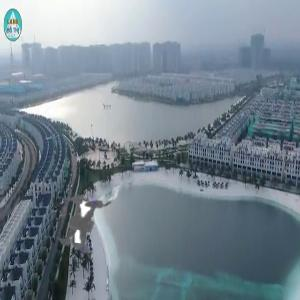drone: (10, 157, 151, 298)
